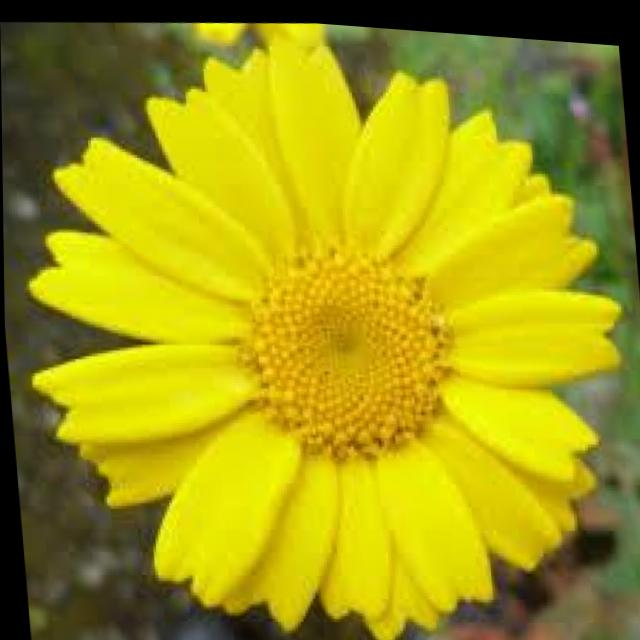Flower: (9, 7, 636, 636)
